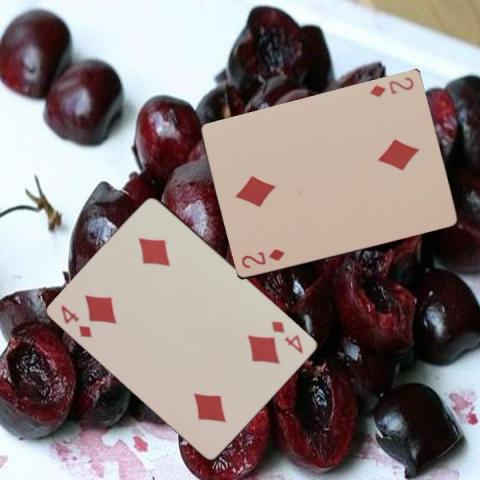2d: (366, 74, 415, 99), (238, 246, 286, 270)
4d: (57, 302, 94, 340), (269, 318, 305, 355)
